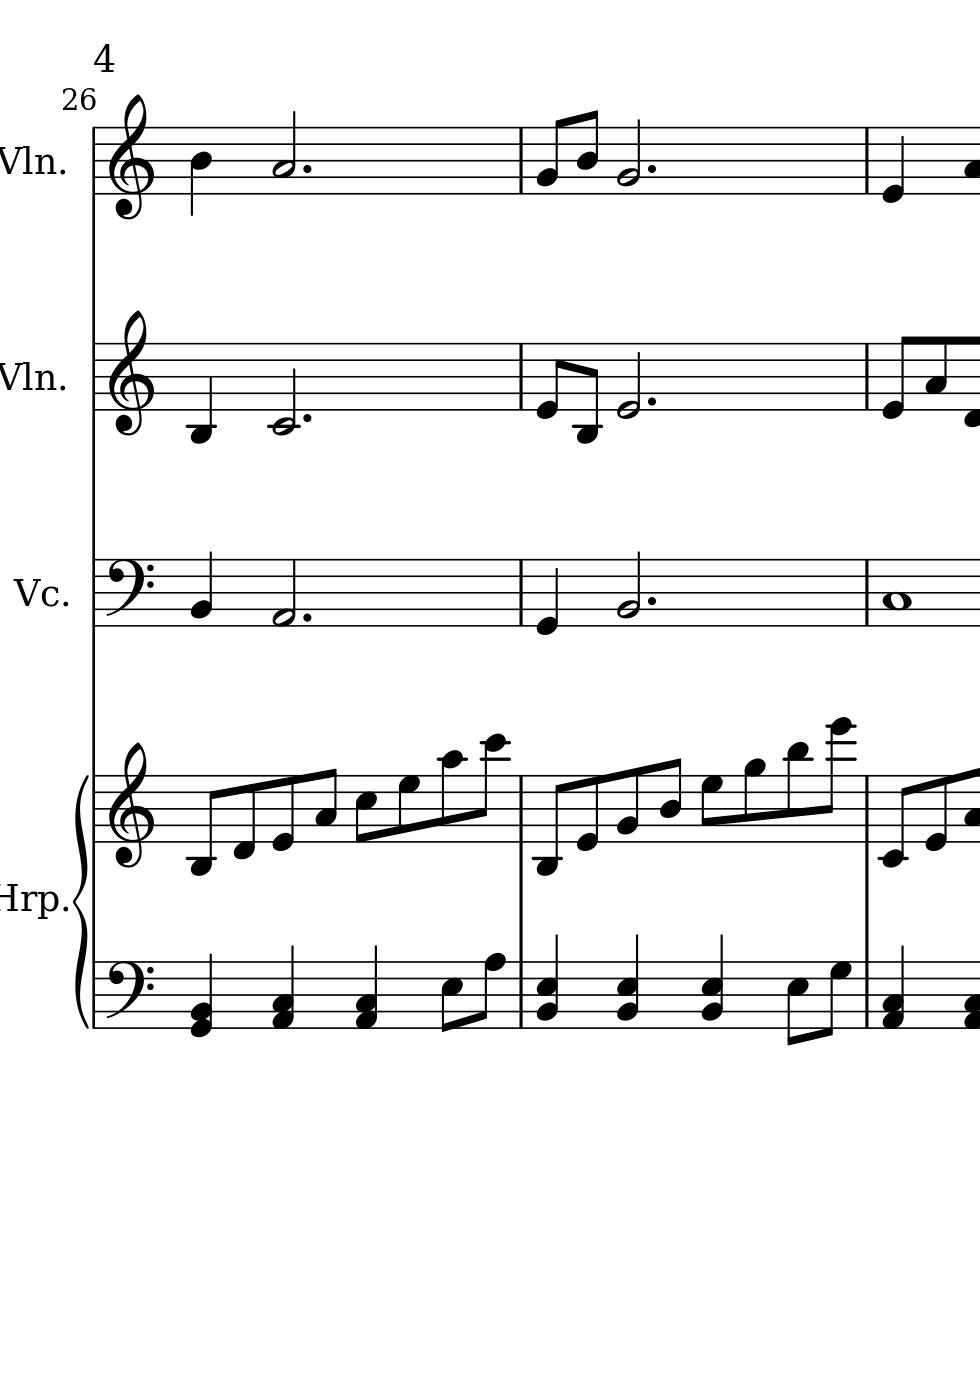1_3: (881, 557, 910, 628)
2: (60, 86, 78, 112)
2_-2: (266, 340, 300, 438)
2_0: (615, 340, 643, 419)
2_1: (270, 556, 298, 629)
2_2: (270, 110, 297, 194), (614, 550, 643, 628), (616, 117, 643, 195)
4: (93, 41, 115, 73)
4_-3: (187, 338, 217, 446)
4_0: (533, 556, 562, 636), (881, 124, 907, 205)
4_0_2: (189, 952, 215, 1038)
4_1_3: (353, 944, 381, 1031), (270, 945, 297, 1033), (881, 945, 907, 1030)
4_2: (188, 550, 215, 628)
4_2_5: (698, 934, 727, 1031), (535, 933, 561, 1032), (616, 934, 641, 1031)
4_4: (188, 126, 212, 217)
6: (78, 86, 97, 113)
8_-1: (231, 773, 258, 862)
8_-2: (878, 773, 913, 869)
8_-3: (187, 773, 222, 877), (533, 773, 567, 877), (573, 341, 600, 445)
8_0: (879, 334, 913, 422), (535, 343, 564, 421), (574, 772, 601, 853), (270, 772, 297, 853), (922, 772, 948, 853)
8_10: (437, 749, 465, 845)
8_11: (784, 739, 811, 845)
8_12: (475, 732, 508, 845)
8_14: (820, 717, 854, 845)
8_2: (535, 116, 566, 196), (614, 766, 640, 845)
8_3: (923, 334, 949, 413), (313, 767, 338, 844)
8_4: (657, 756, 683, 844), (575, 108, 600, 196)
8_5: (783, 959, 808, 1046), (439, 959, 462, 1034), (353, 774, 378, 845)
8_7: (820, 959, 852, 1040), (395, 773, 421, 844), (699, 773, 723, 844)
8_8: (473, 952, 506, 1032)
8_9: (741, 758, 766, 845)
Brace: (71, 773, 90, 1032)
Fclef: (104, 557, 157, 629), (102, 959, 155, 1027)
Gclef: (107, 308, 155, 436), (107, 740, 155, 869), (108, 93, 154, 221)
Hrp: (1, 879, 55, 923)
Single_barline: (858, 343, 876, 411), (858, 961, 875, 1029), (859, 127, 876, 194), (513, 559, 530, 626), (858, 559, 875, 626), (860, 776, 876, 843), (513, 127, 529, 193), (513, 962, 529, 1028), (86, 560, 101, 627), (514, 776, 529, 843), (87, 343, 101, 411), (513, 343, 527, 411), (88, 775, 102, 843), (87, 127, 101, 194), (88, 962, 101, 1027)
Vc: (10, 572, 65, 606)
Vln: (1, 141, 57, 182), (1, 356, 58, 397)
dot: (643, 393, 658, 408), (300, 410, 313, 426), (300, 609, 313, 625), (644, 162, 658, 176), (644, 594, 658, 608), (300, 161, 313, 176)
